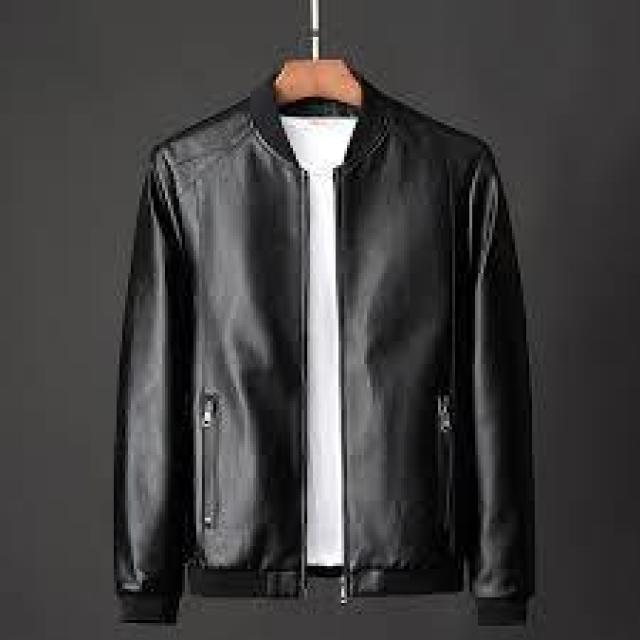jacket: (85, 66, 555, 637)
